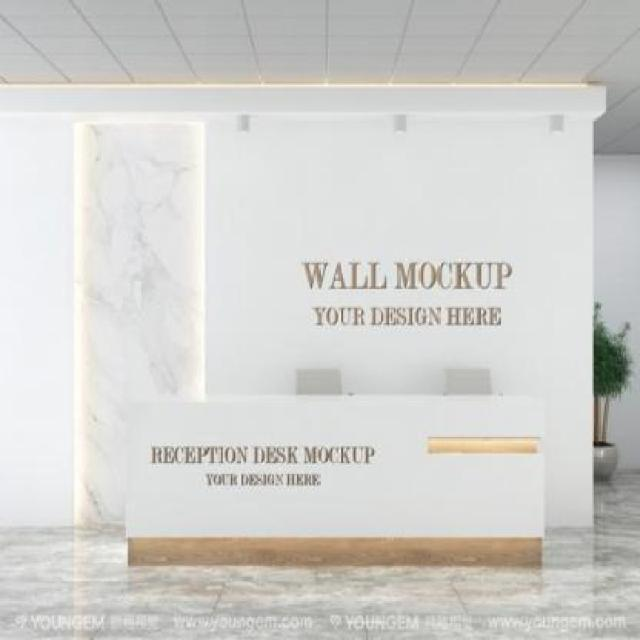frontdesk: (117, 384, 554, 574)
